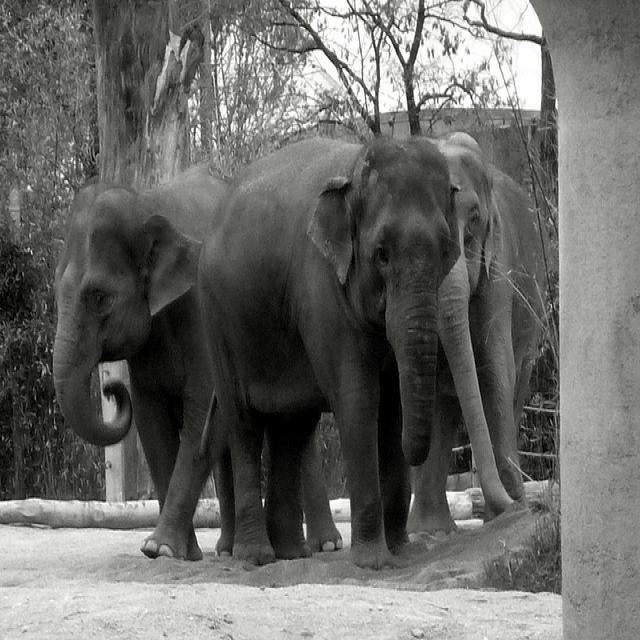Elephant: (196, 133, 520, 570), (54, 165, 225, 560)
